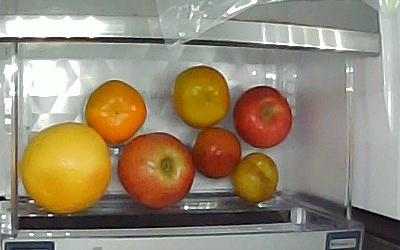apple: (118, 133, 195, 206), (234, 86, 295, 149)
grapefruit: (22, 121, 112, 214)
persimmon: (86, 80, 147, 146), (173, 65, 230, 128)
prune: (232, 152, 279, 203), (193, 128, 240, 178)
